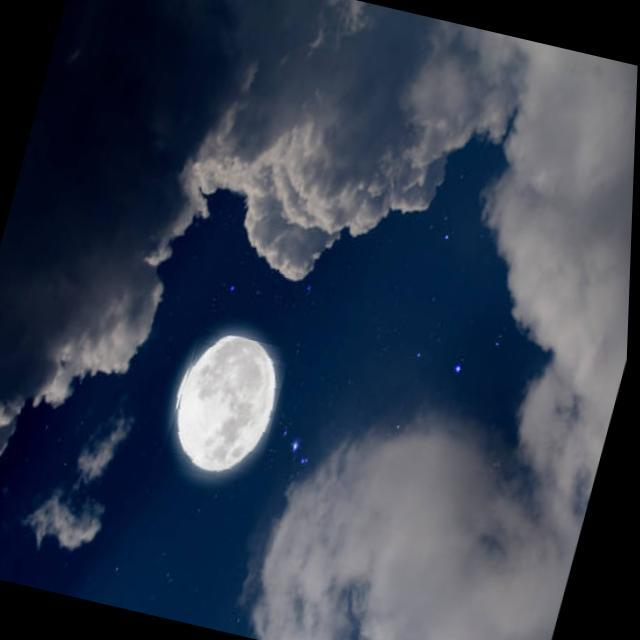moon: (160, 326, 294, 488)
